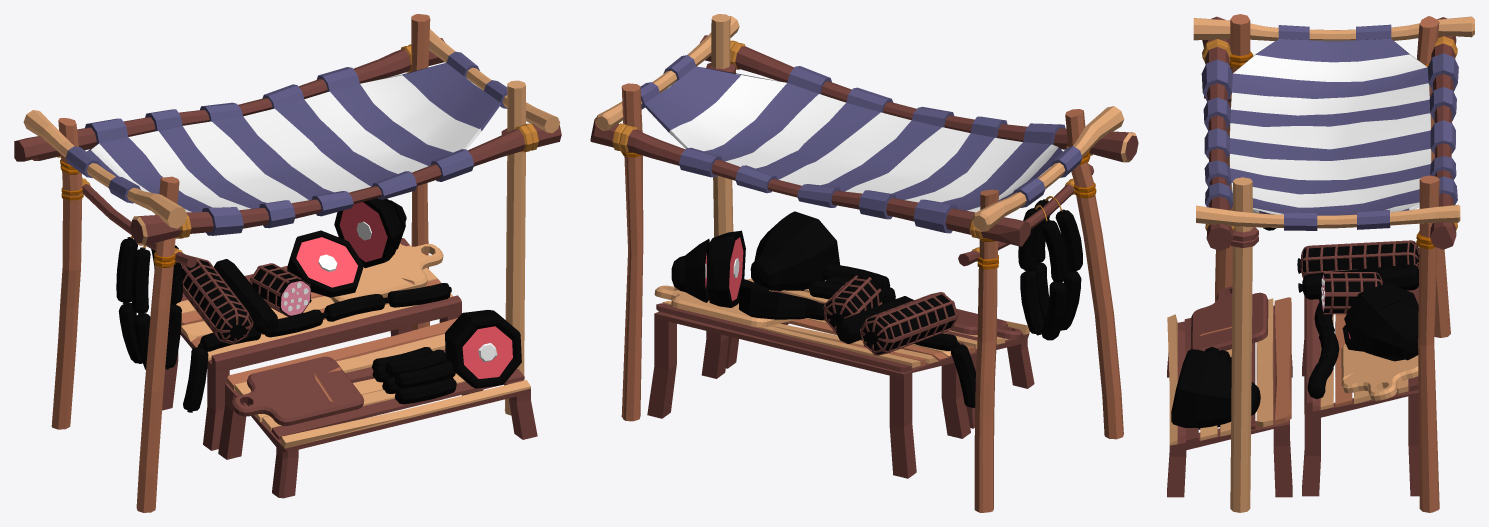
Rendered from Market Canopy Butcher 1.fbx.
The picture shows the model from 3 angles, left to right: view 1: azimuth 30°, elevation 25°; view 2: azimuth 150°, elevation 25°; view 3: azimuth 270°, elevation 25°; orthographic projection.
Parts seen in each view (by area): view 1: Market Butcher Stand; view 2: Market Butcher Stand; view 3: Market Butcher Stand.
Boxes of the visible parts, x1,y1,x2,y2 form: Market Butcher Stand: (14,14,561,512); Market Butcher Stand: (590,14,1138,512); Market Butcher Stand: (1167,14,1474,512).
Size of the model in its own units: 414 by 303 by 257.
